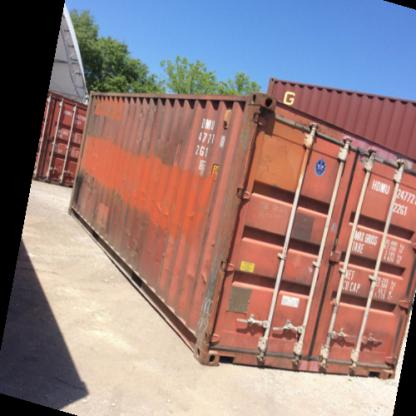Damage: (127, 104, 188, 156), (104, 184, 145, 225), (113, 226, 142, 265), (81, 100, 109, 138), (66, 173, 90, 214), (146, 194, 173, 220), (181, 262, 209, 287), (183, 197, 201, 225)
